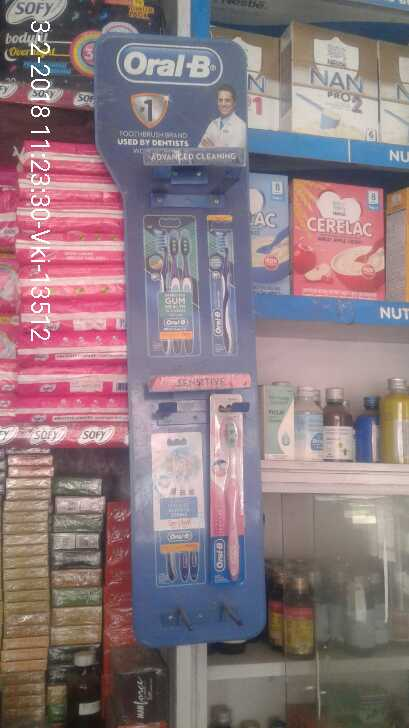oralb: (206, 392, 249, 581)
